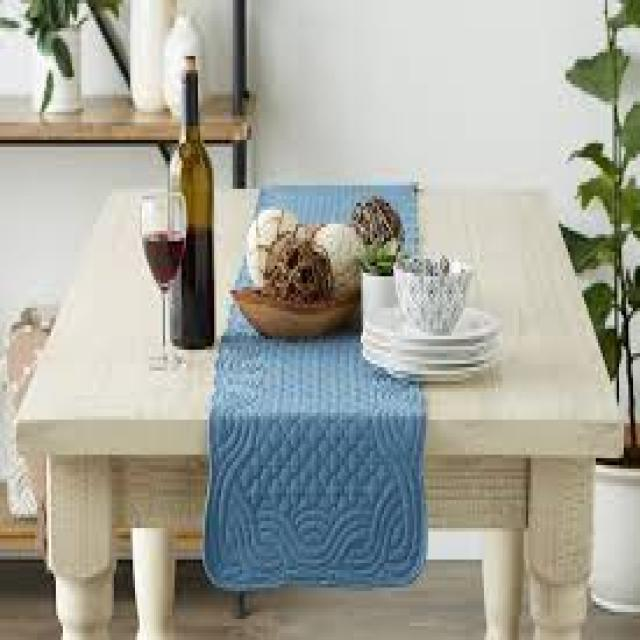obstacle: (26, 97, 621, 640)
